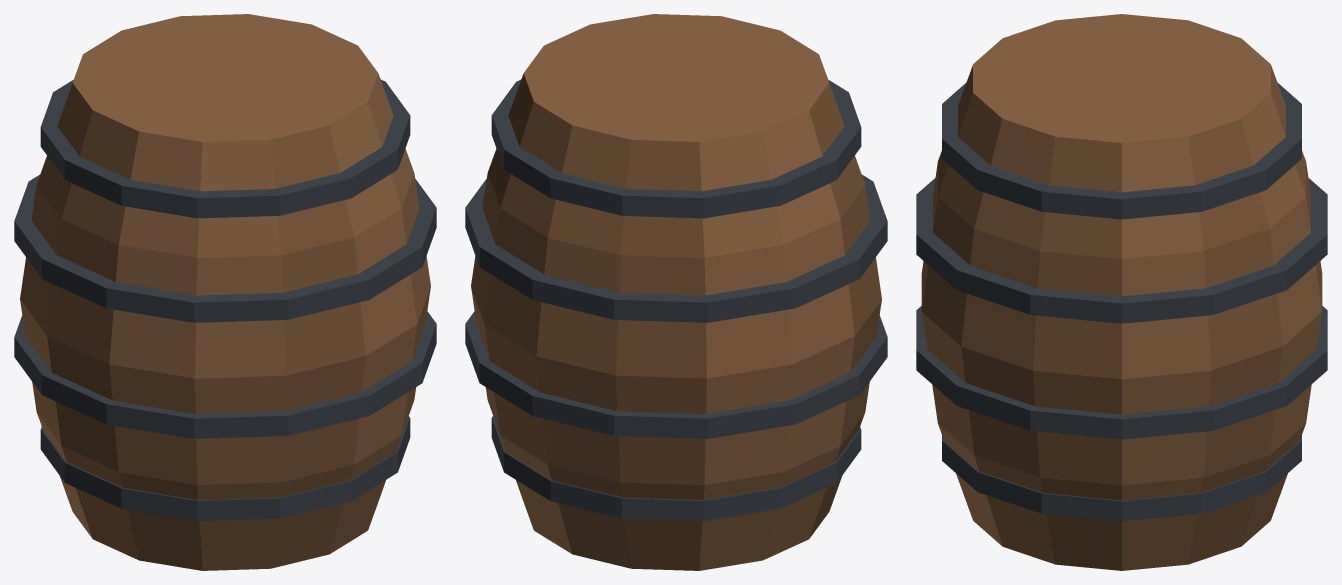
File: Barrel.obj
The picture shows the model from 3 angles, left to right: view 1: azimuth 30°, elevation 25°; view 2: azimuth 150°, elevation 25°; view 3: azimuth 270°, elevation 25°; orthographic projection.
Size of the model in its own units: 1.52 by 1.7 by 1.48.
